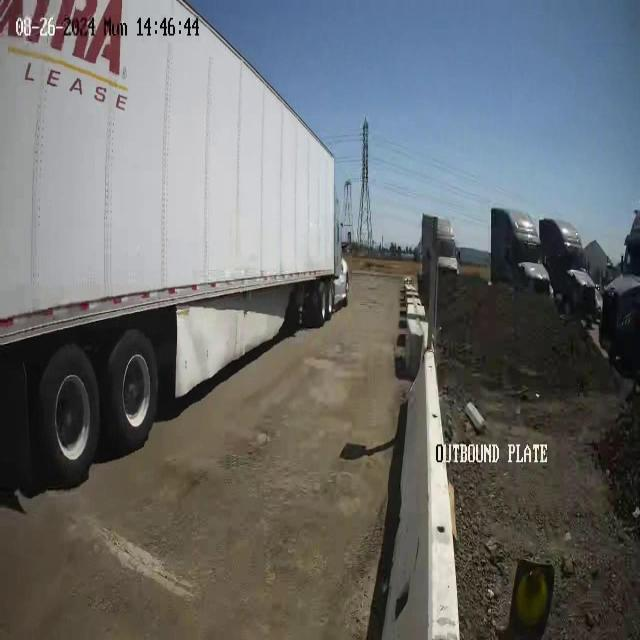TRUCK_IN: (1, 1, 350, 497)
